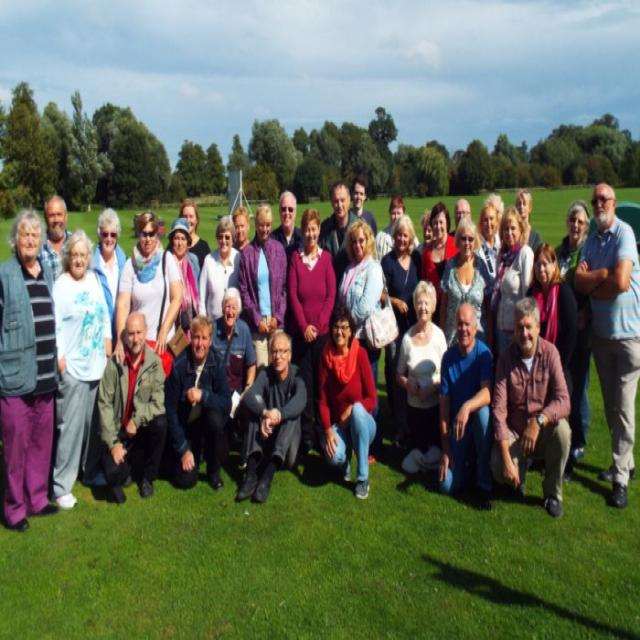body: (573, 175, 639, 510), (0, 211, 60, 533), (48, 228, 114, 511), (492, 295, 572, 518), (334, 215, 399, 467), (97, 308, 166, 502), (233, 328, 309, 504), (314, 304, 378, 502), (288, 205, 337, 462), (436, 300, 495, 513), (115, 208, 186, 382), (164, 314, 233, 491), (554, 198, 593, 461), (380, 212, 422, 452), (395, 278, 450, 451), (237, 203, 289, 371), (526, 240, 582, 373), (441, 216, 496, 350), (494, 206, 535, 352), (91, 206, 131, 355), (208, 284, 258, 403), (419, 200, 465, 328), (196, 214, 244, 325), (316, 177, 364, 286), (165, 217, 203, 348), (37, 192, 74, 292), (373, 194, 421, 266), (472, 200, 506, 285), (268, 189, 304, 267), (472, 200, 504, 284), (177, 197, 212, 269), (290, 456, 355, 491), (513, 188, 542, 262), (347, 177, 378, 238), (572, 456, 606, 506), (414, 208, 437, 255), (230, 204, 252, 252), (449, 196, 472, 238), (394, 473, 433, 496)
